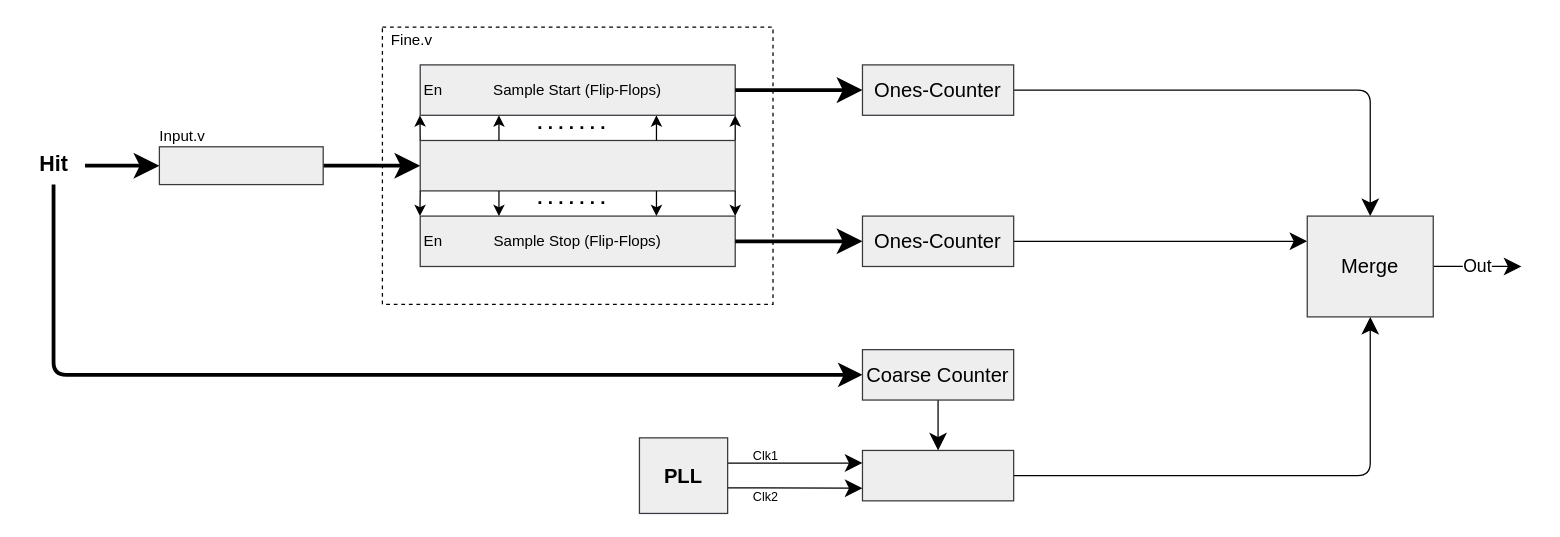
Image size: 1560x537. Some labels were removed from this diagram. The centre of each missing label's shape, as x and y in pixels:
Delay Chain: point 577,165
Edge Detector: point 240,165
Synchronizer: point 937,475
